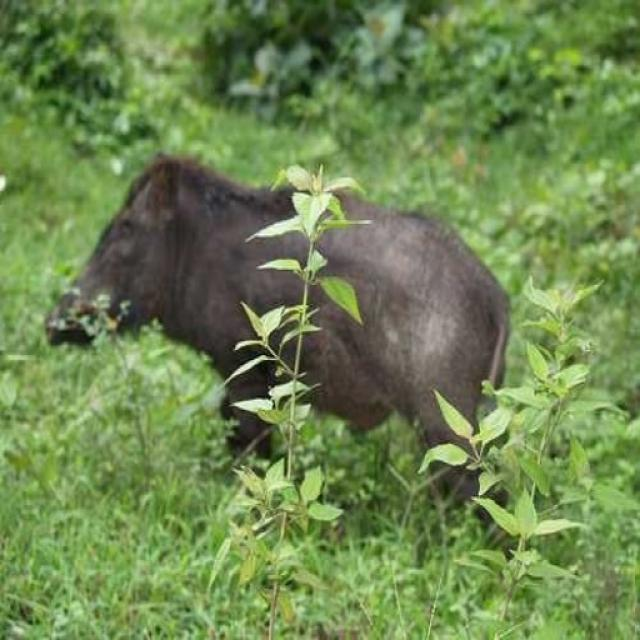pig: (33, 137, 563, 522)
